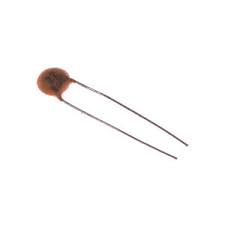ceramic capacitor: (16, 49, 97, 113)
